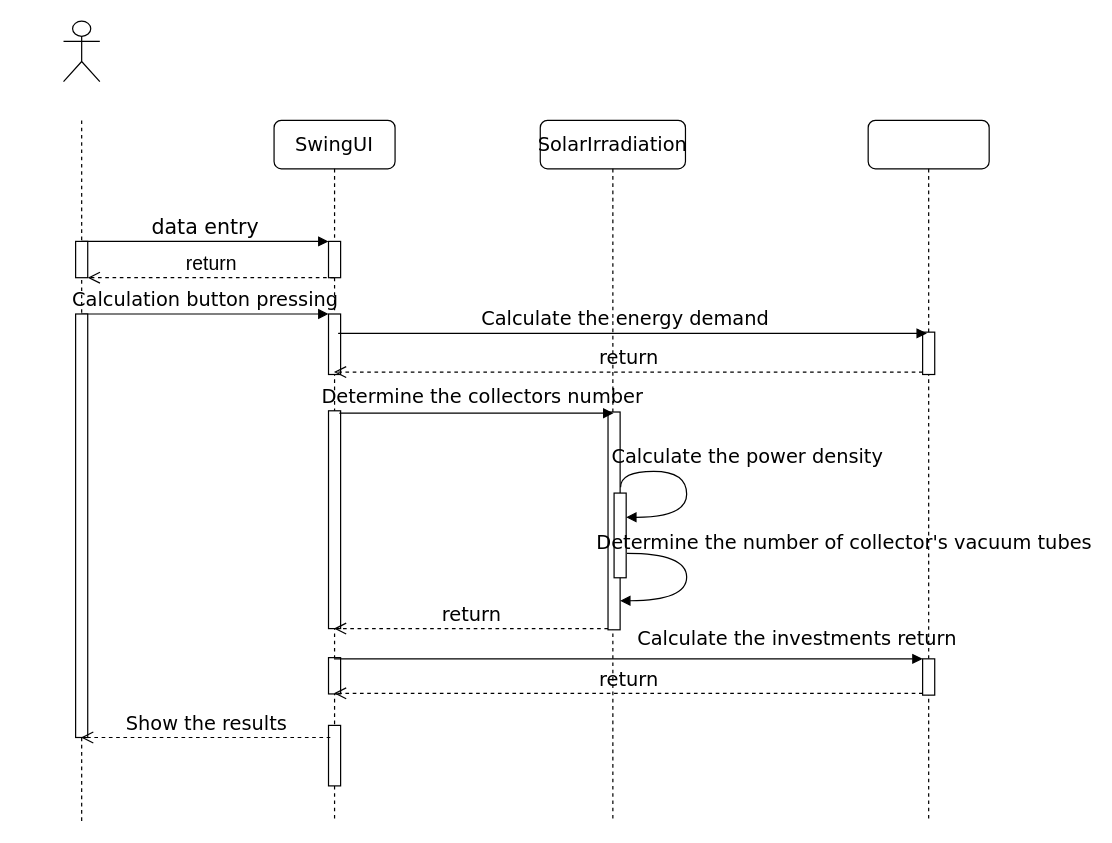
The diagram is 1112 pixels wide and 843 high, and some of its shapes have lost their labels. Here are the shapes that lost their labels. From the top down, the box of each, then its label:
(62, 20, 100, 82): User
(867, 119, 989, 822): Economics
